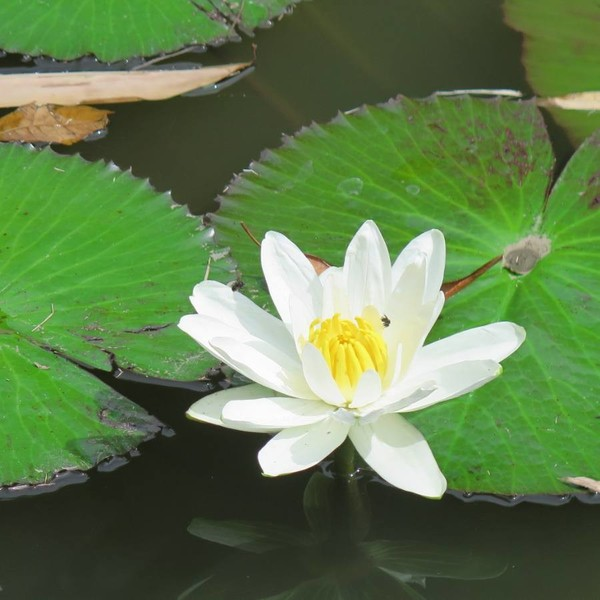obstacle: (7, 135, 522, 505)
